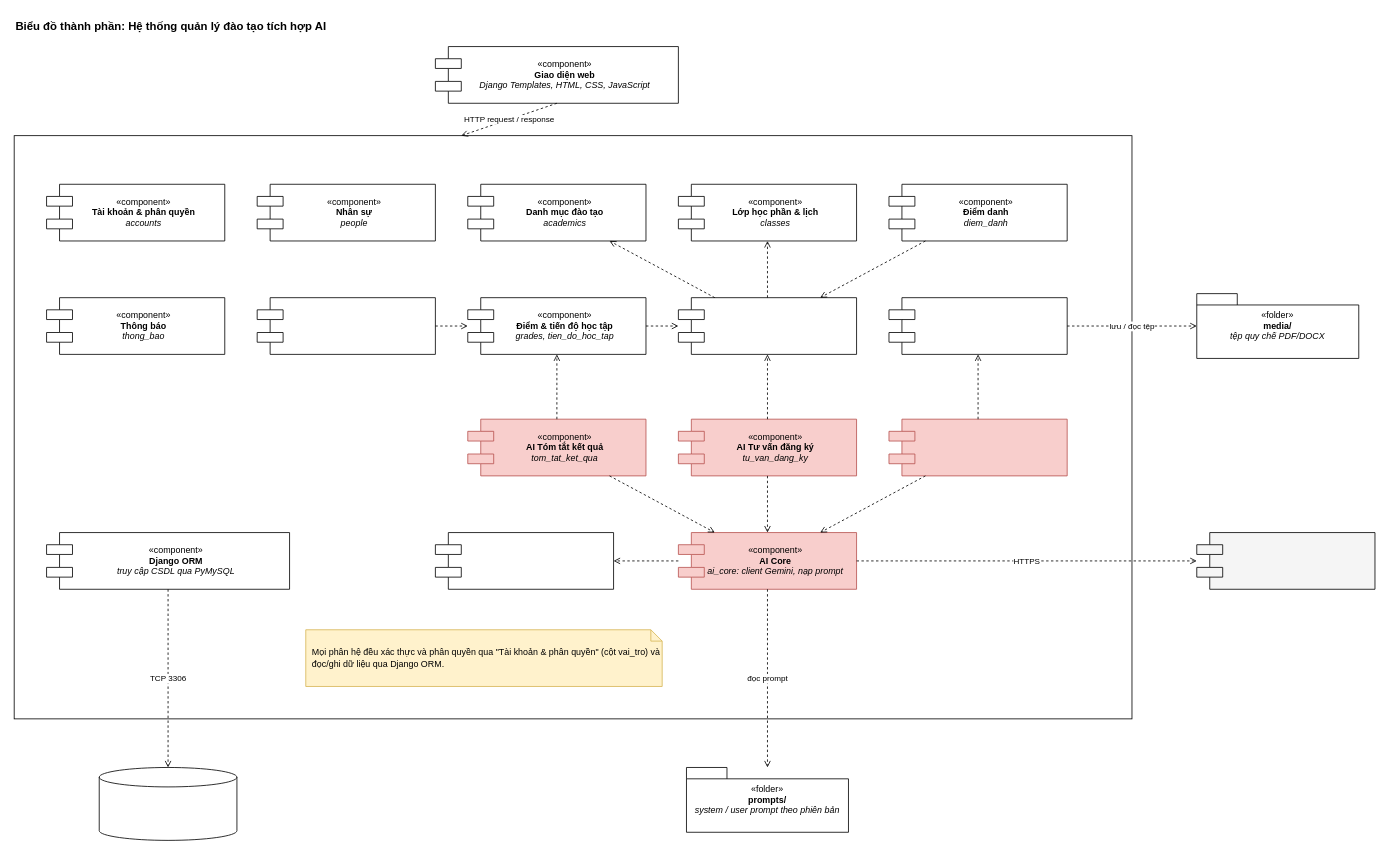
This 1389x855 diagram has some shape labels left out. The shapes that lost their labels are listed below. From the top down, each one's box as (x1, y1, x2, y2) in pixels, then its label:
(256, 297, 435, 354): «component» Báo cáo thống kê reports
(678, 297, 857, 354): «component» Đăng ký học phần enrollment
(888, 297, 1067, 354): «component» Tài liệu quy chế regulations
(13, 135, 1132, 719): «subsystem» Ứng dụng web Django (qldt)
(888, 418, 1067, 476): «component» AI Hỏi đáp quy chế (BM25) hoi_dap_quy_che
(435, 532, 614, 589): «component» Cache (LocMem) giới hạn tần suất gọi AI
(1196, 532, 1375, 589): «external system» Google Gemini API
(98, 767, 237, 840): «database» MySQL 8.0 CSDL qldt (21 bảng)
